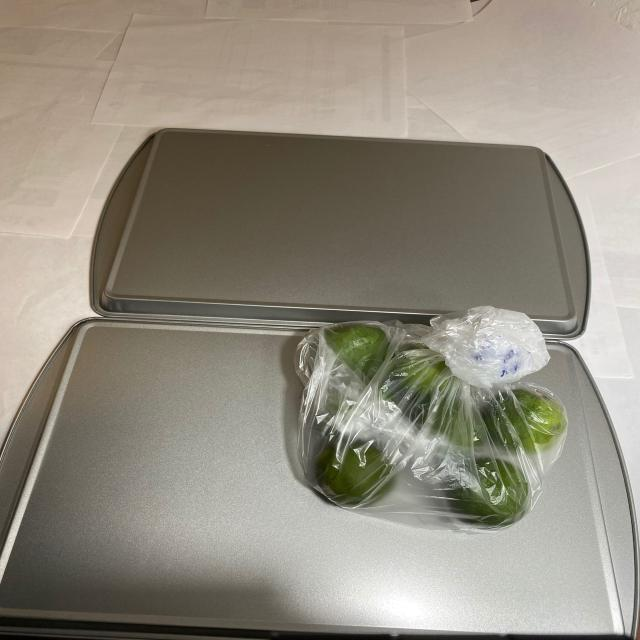lemon: (285, 319, 562, 526)
